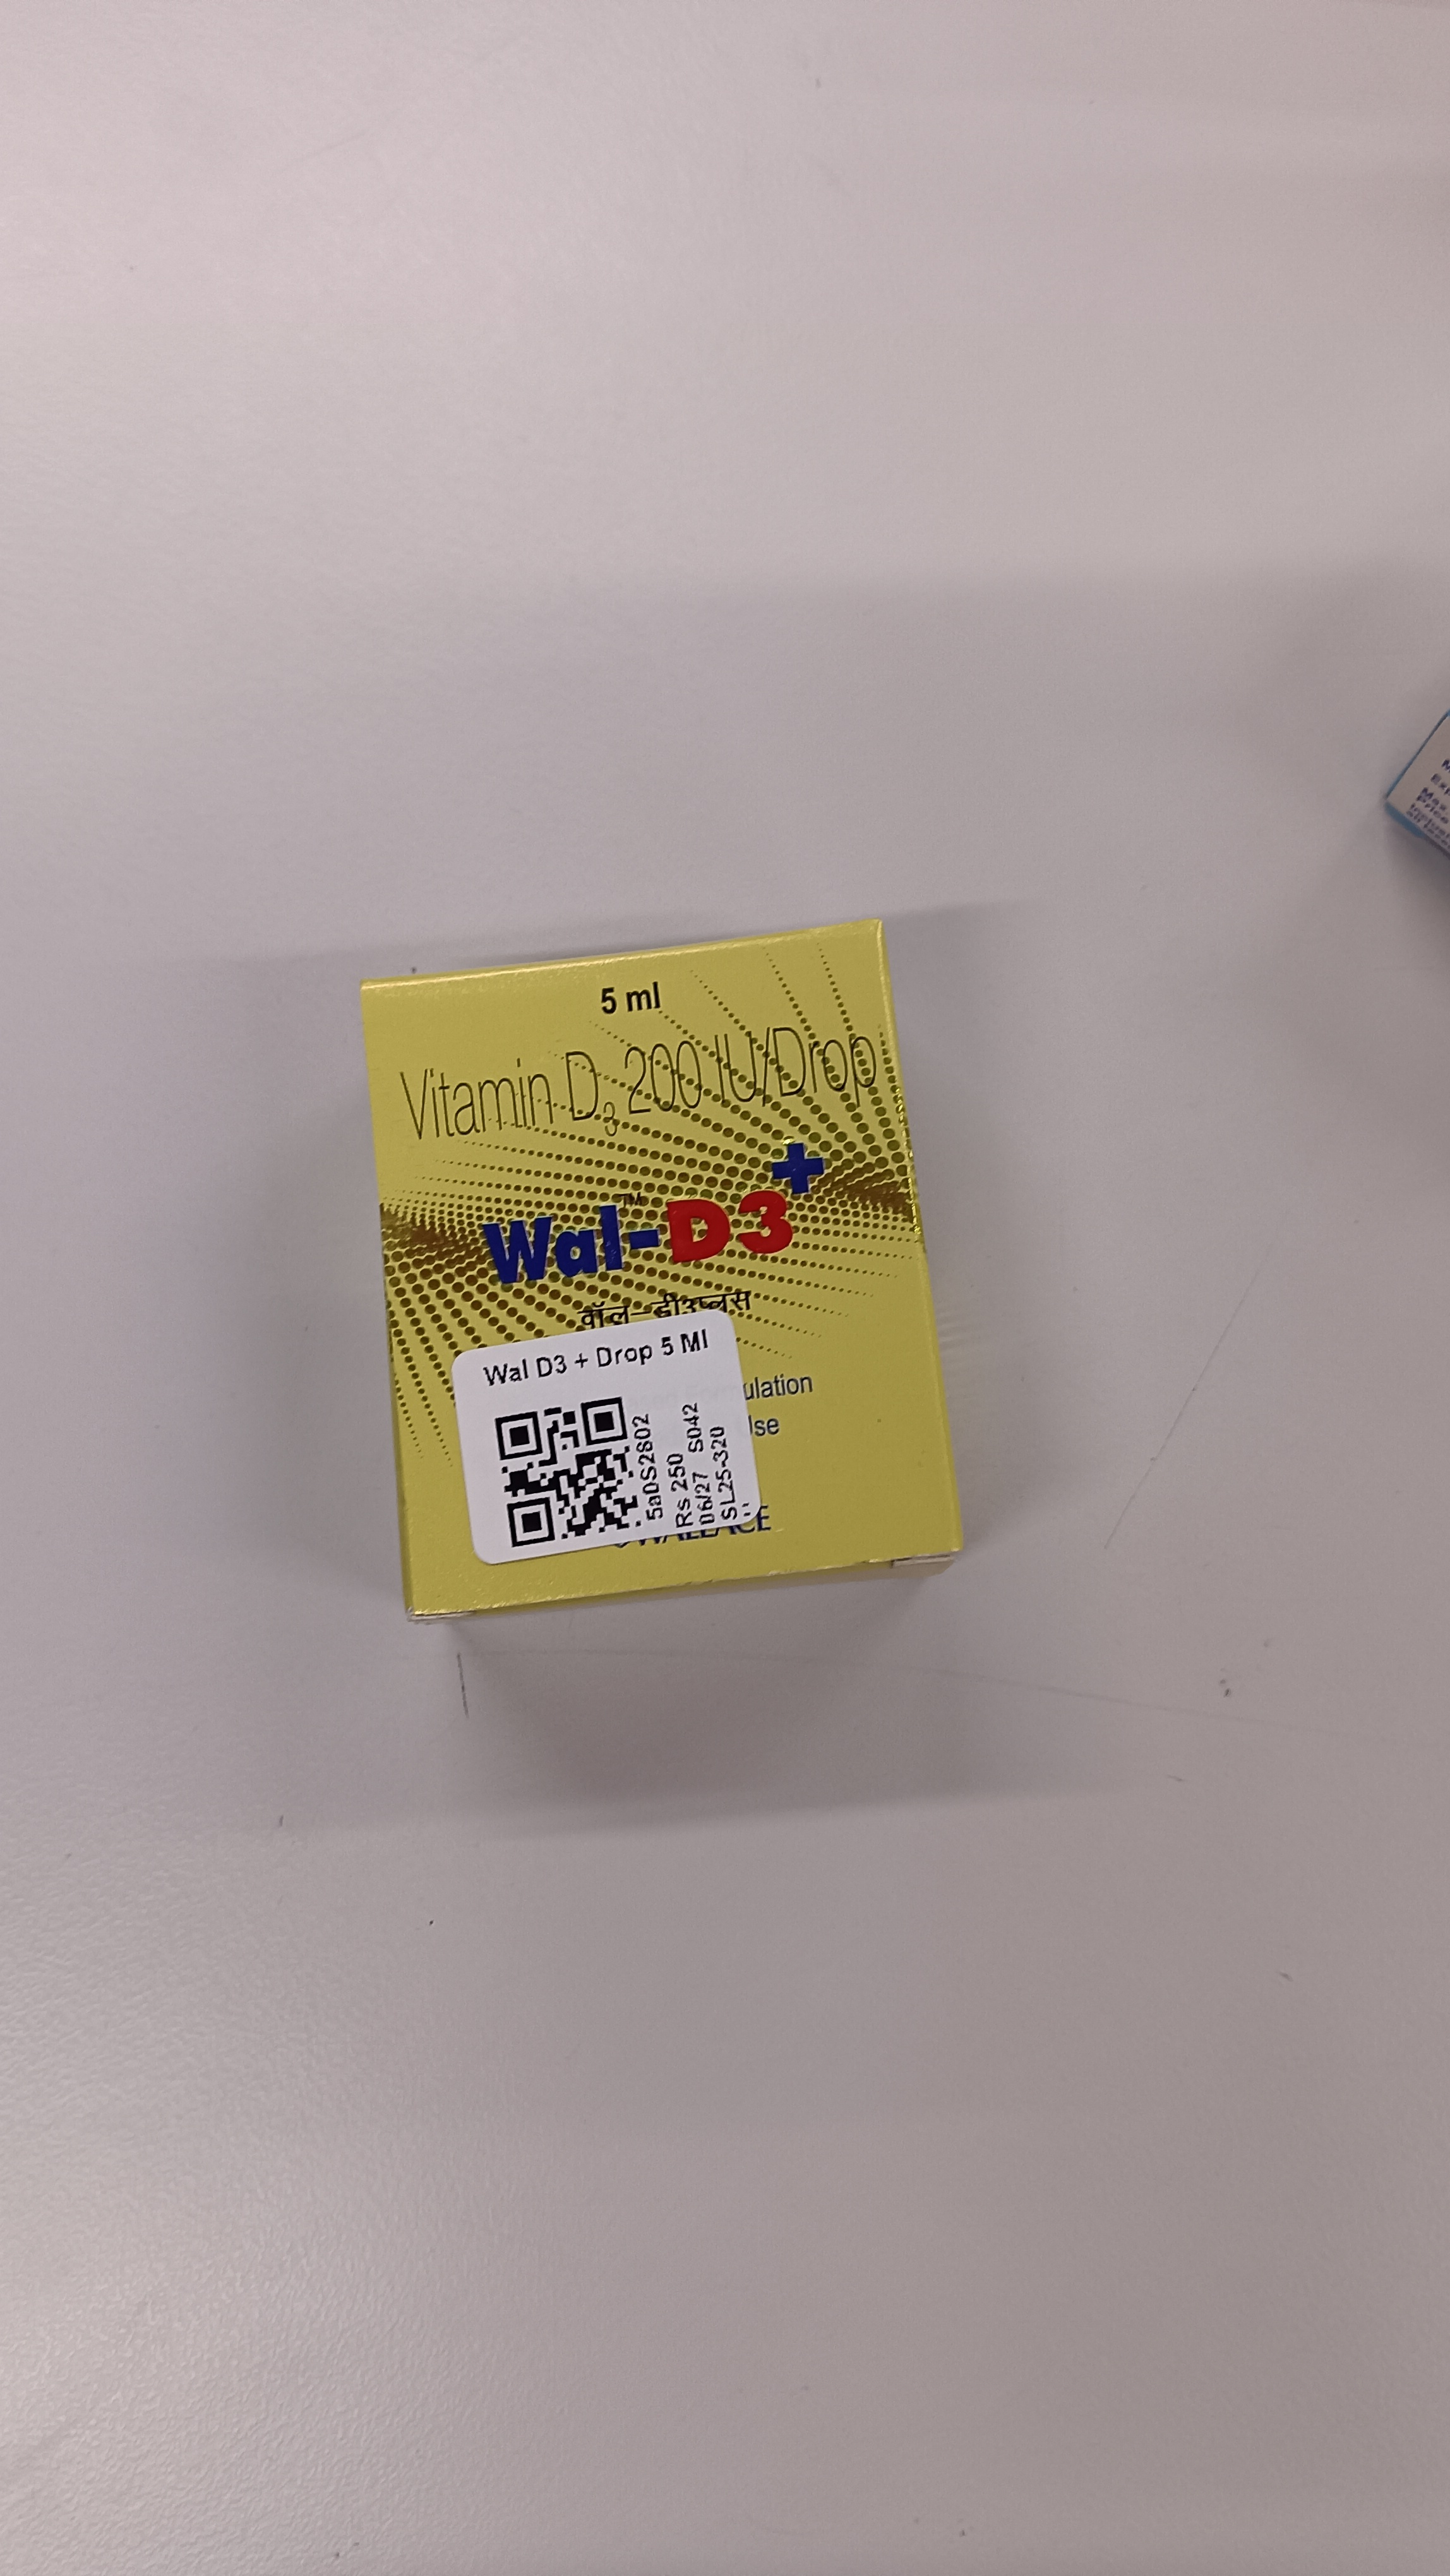QR: (494, 1320, 641, 1472)
